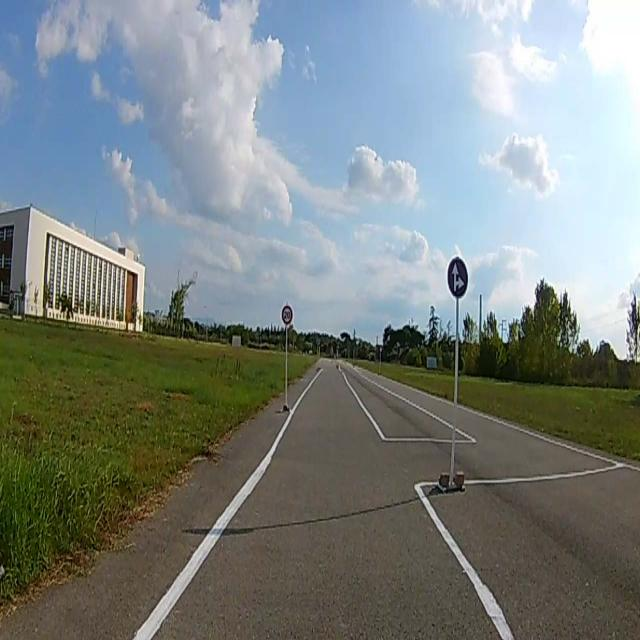20: (282, 305, 292, 326)
ilerisag: (448, 258, 467, 298)
